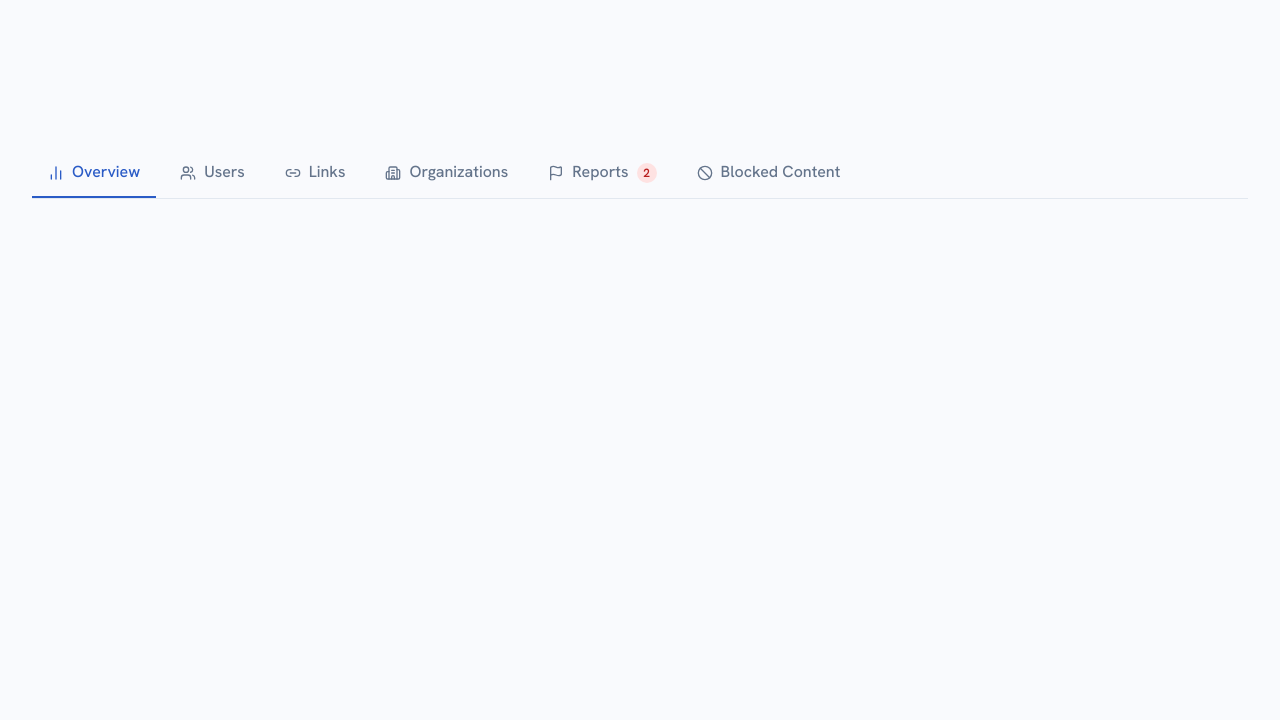
Test: Admin Page › Navigation Tabs › switches tabs on click
This screenshot has width=1280, height=720.
Click the button "Users" at (212, 173), box [164, 148, 261, 198]
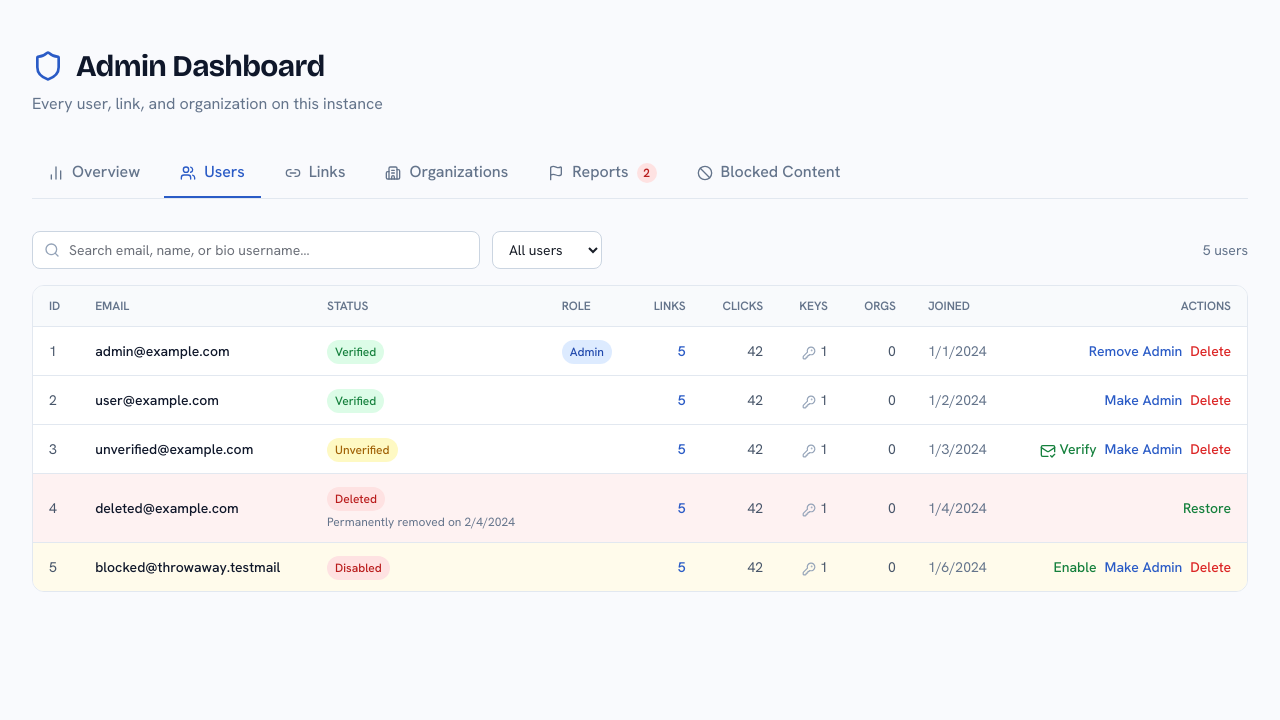
Result: the text "admin@example.com" is shown at [95, 342, 230, 360]
